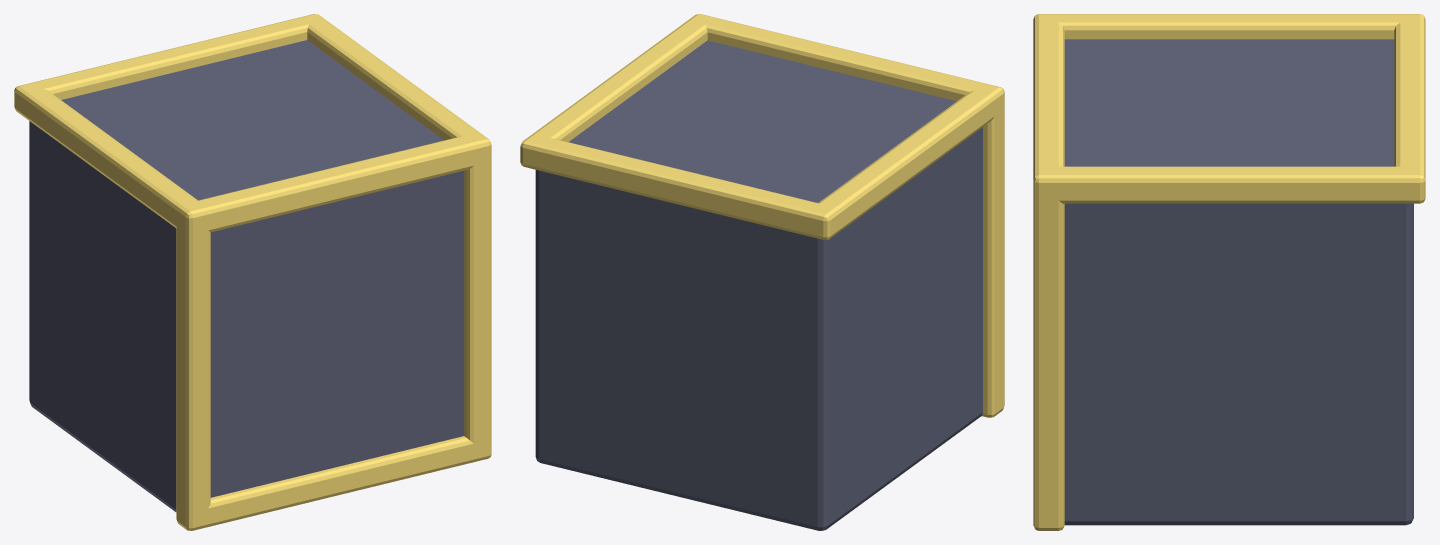
Rendered from portrait_frame.glb.
The picture shows the model from 3 angles, left to right: view 1: azimuth 30°, elevation 25°; view 2: azimuth 150°, elevation 25°; view 3: azimuth 270°, elevation 25°; orthographic projection. The views are drawn at different scales.
Parts seen in each view (by area): view 1: Cube, Cube.002, Cube.008, Cube.006, Cube.007, Cube.004, Cube.001, Cube.003; view 2: Cube, Cube.001, Cube.004, Cube.002, Cube.008, Cube.003; view 3: Cube, Cube.003, Cube.007, Cube.004, Cube.001, Cube.002, Cube.006.
Boxes of the visible parts, x1,y1,x2,y2 form: Cube: (29,40,463,511); Cube.002: (177,133,491,234); Cube.008: (176,206,210,528); Cube.006: (176,436,491,530); Cube.007: (464,133,491,462); Cube.004: (14,88,207,233); Cube.001: (14,14,324,117); Cube.003: (301,14,489,165); Cube: (535,40,982,530); Cube.001: (520,134,839,239); Cube.004: (808,87,1003,239); Cube.002: (688,14,1004,113); Cube.008: (975,87,1004,414); Cube.003: (523,14,712,170); Cube: (1064,39,1413,525); Cube.003: (1033,166,1424,203); Cube.007: (1033,166,1064,527); Cube.004: (1034,14,1425,39); Cube.001: (1394,14,1425,203); Cube.002: (1033,14,1064,200); Cube.006: (1033,508,1064,530).
Bounding box in the file's own units: 1 × 1 × 1.
